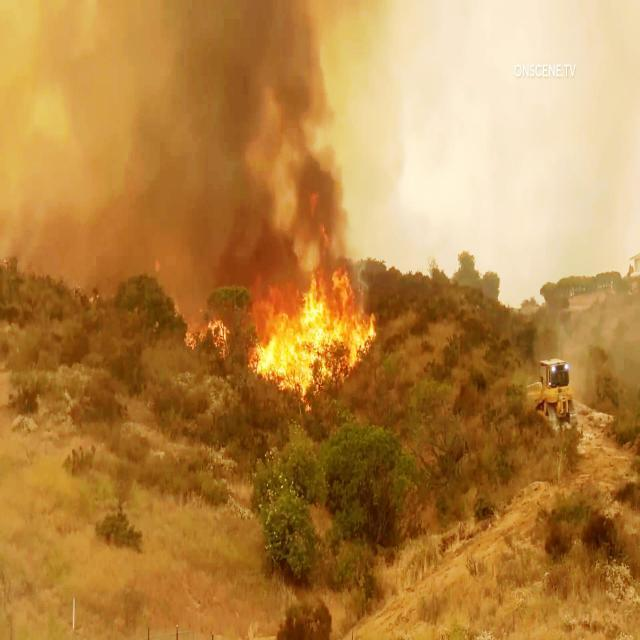Fire: (248, 264, 382, 414), (182, 308, 234, 368)
Smoke: (0, 0, 353, 261)
